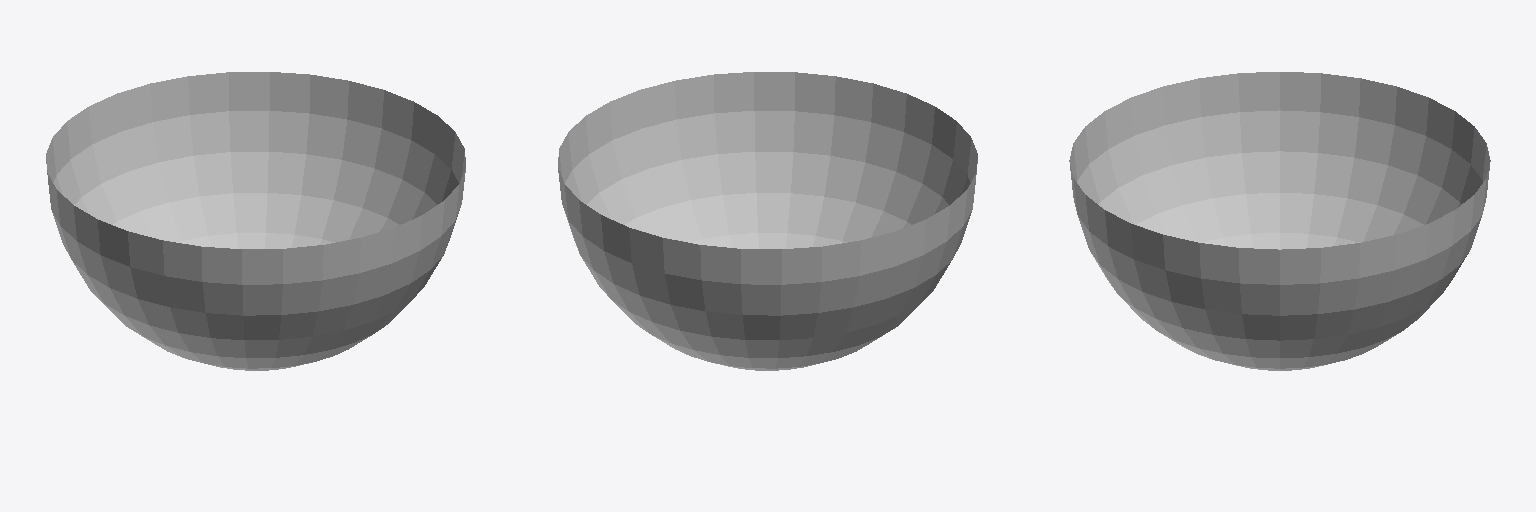
The model's file is bowl.obj.
3 views of the same model, side by side, from view 1: azimuth 30°, elevation 25°; view 2: azimuth 150°, elevation 25°; view 3: azimuth 270°, elevation 25° (orthographic).
Parts seen in each view (by area): view 1: Sphere; view 2: Sphere; view 3: Sphere.
Boxes of the visible parts, box(x1,y1,x2,y2) form: Sphere: box(46, 72, 465, 370); Sphere: box(558, 72, 977, 370); Sphere: box(1069, 72, 1490, 370).
Size of the model in its own units: 2 by 1 by 2.